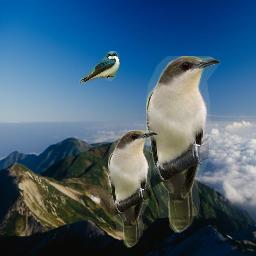Cuckoo: (146, 56, 221, 234), (108, 130, 158, 248)
Swallow: (79, 51, 120, 83)
